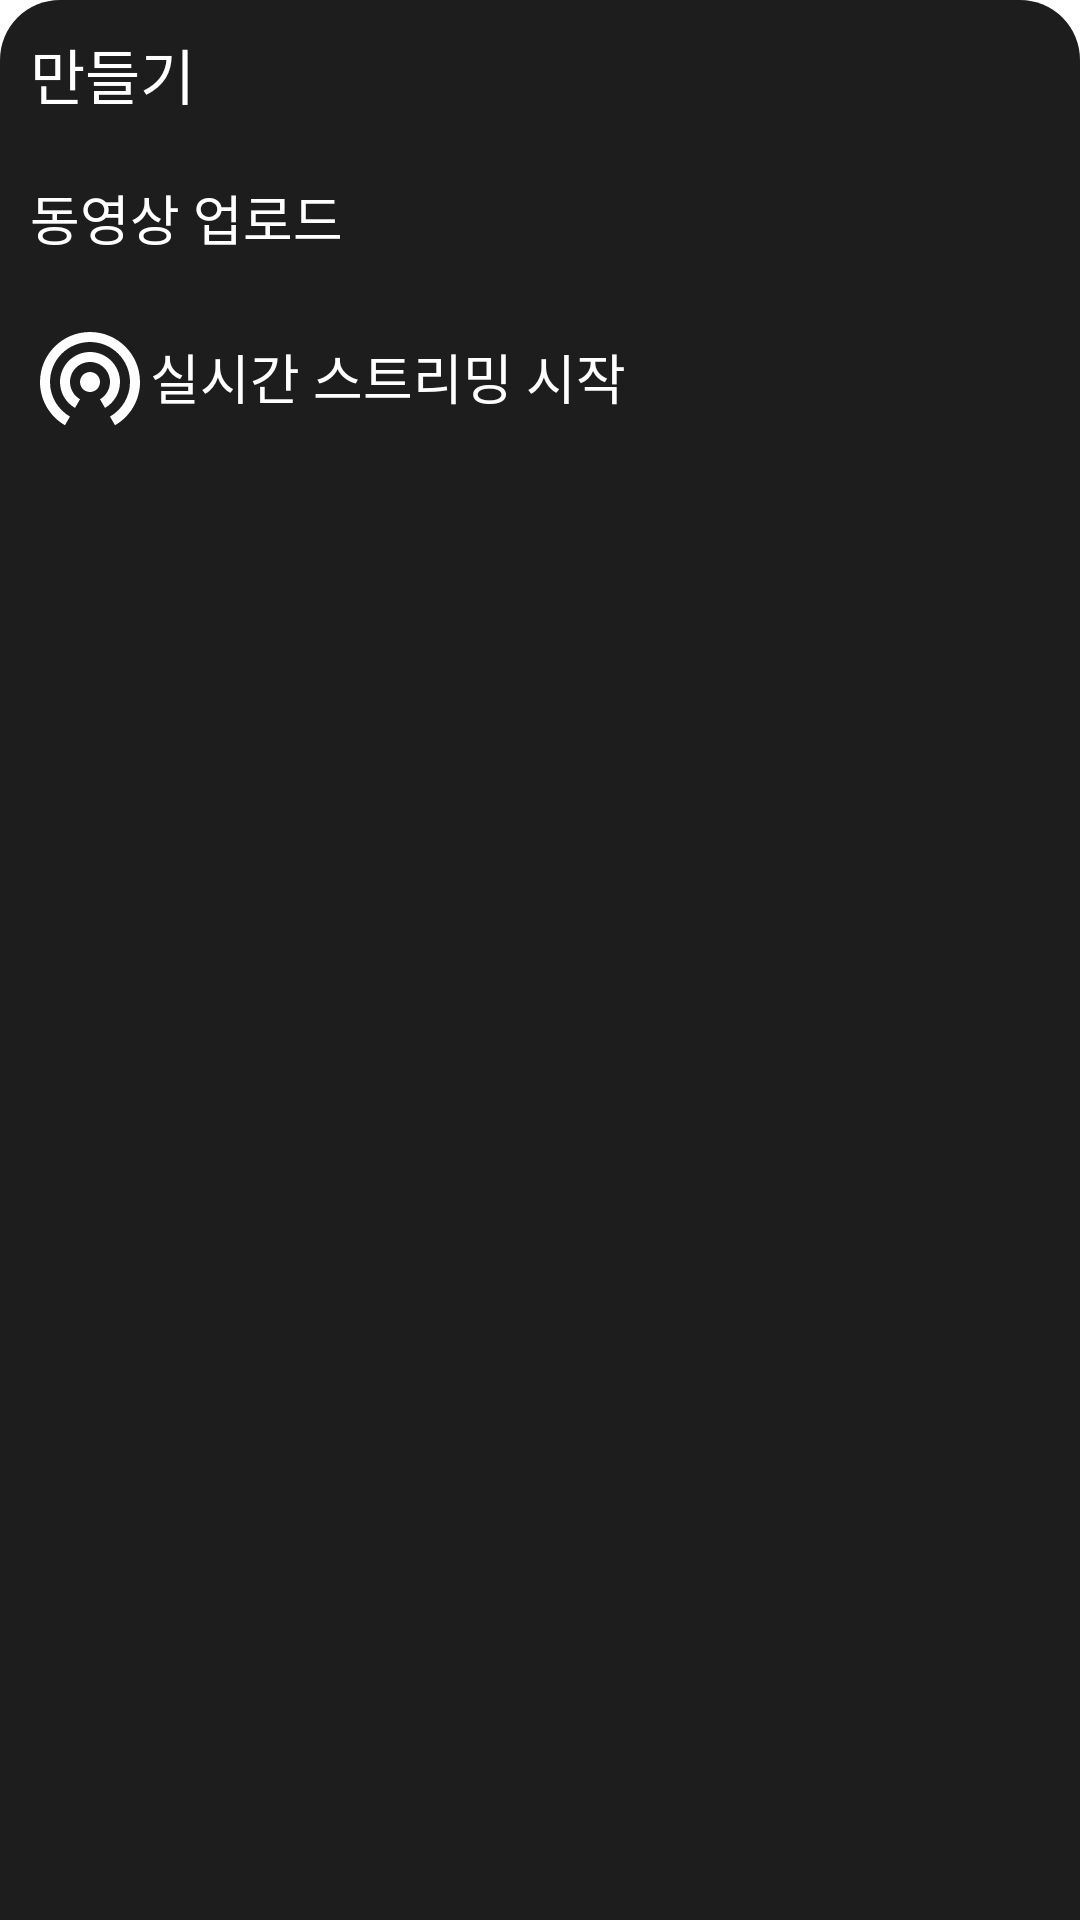

Named icons in this screenshot (1080x1920) and their centers, (x,y):
btethering: (90,378)
